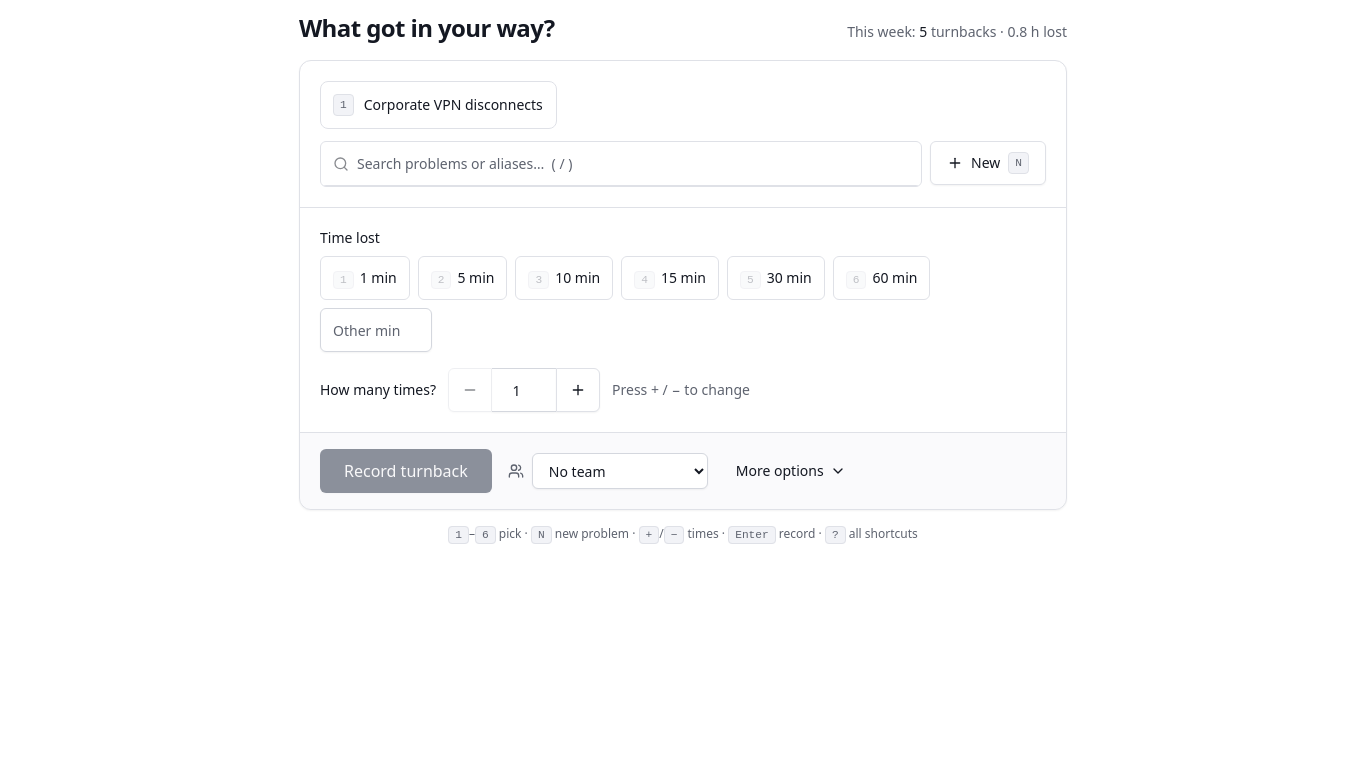
Test: RecordPage › records the same problem several times with a quantity
The image size is (1366, 780).
# Duration first, then the problem: either order works.
Click the radio button labelled "10 min". click: coordinates (564, 278)
box: [516,256,613,300]
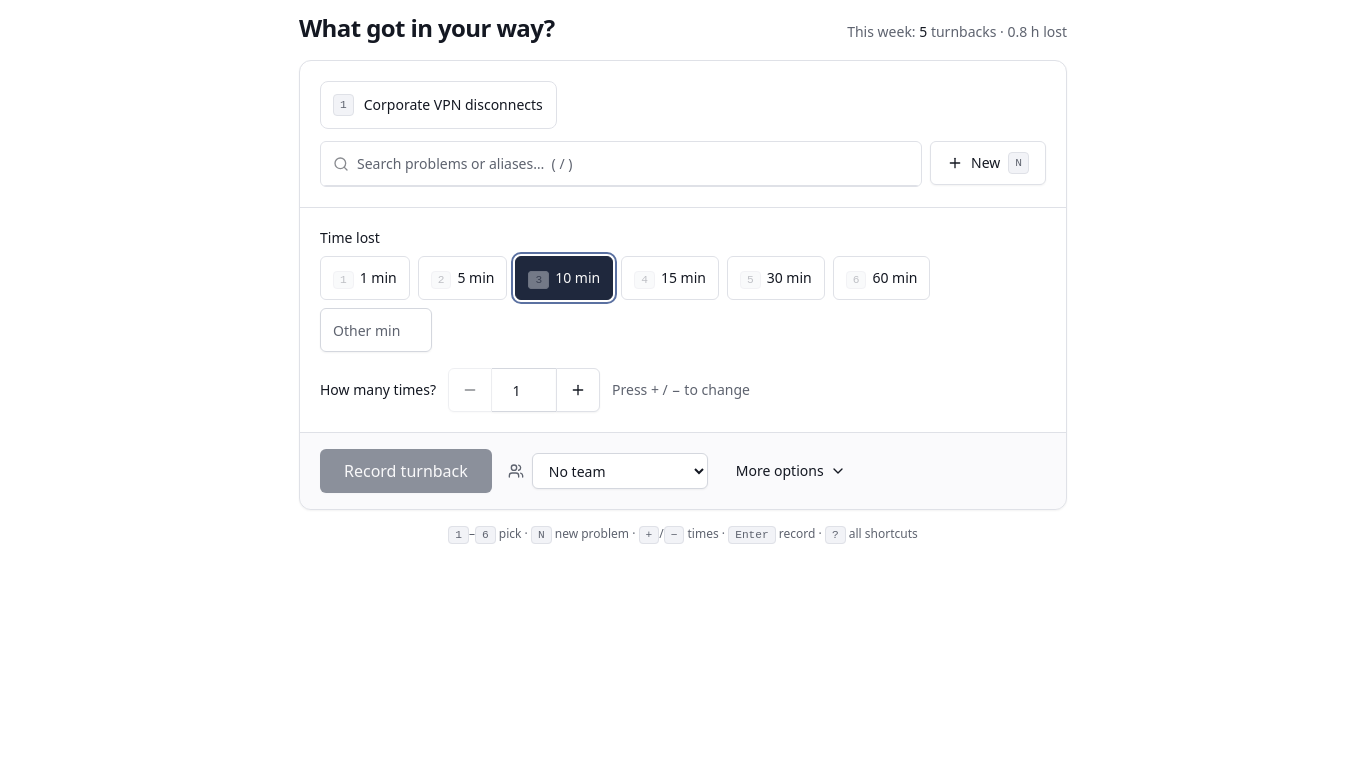
Click the button "1 Corporate VPN disconnects". click: coordinates (438, 105)
box: [320,81,557,129]
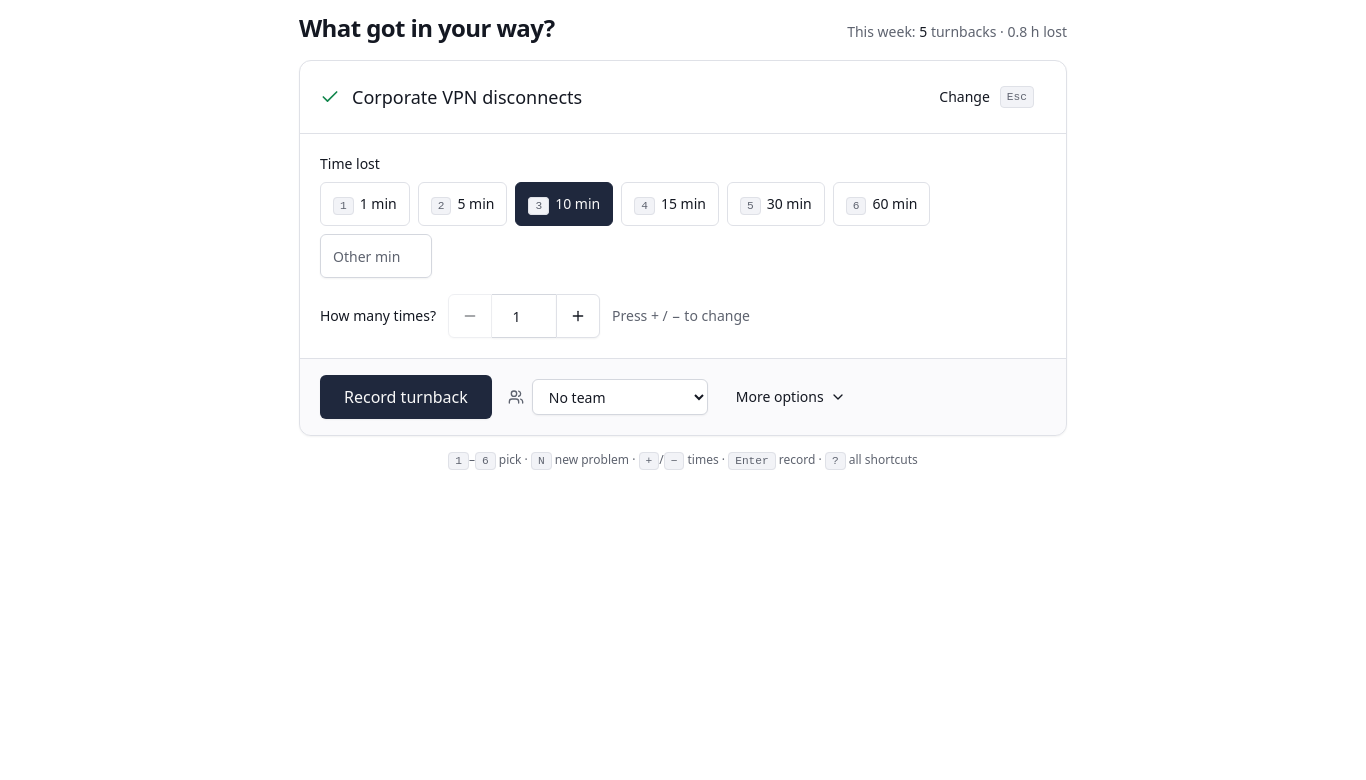
Replace the text in the number field labelled "How many times?" with "15". click: coordinates (524, 316)
box: [492,294,556,338]
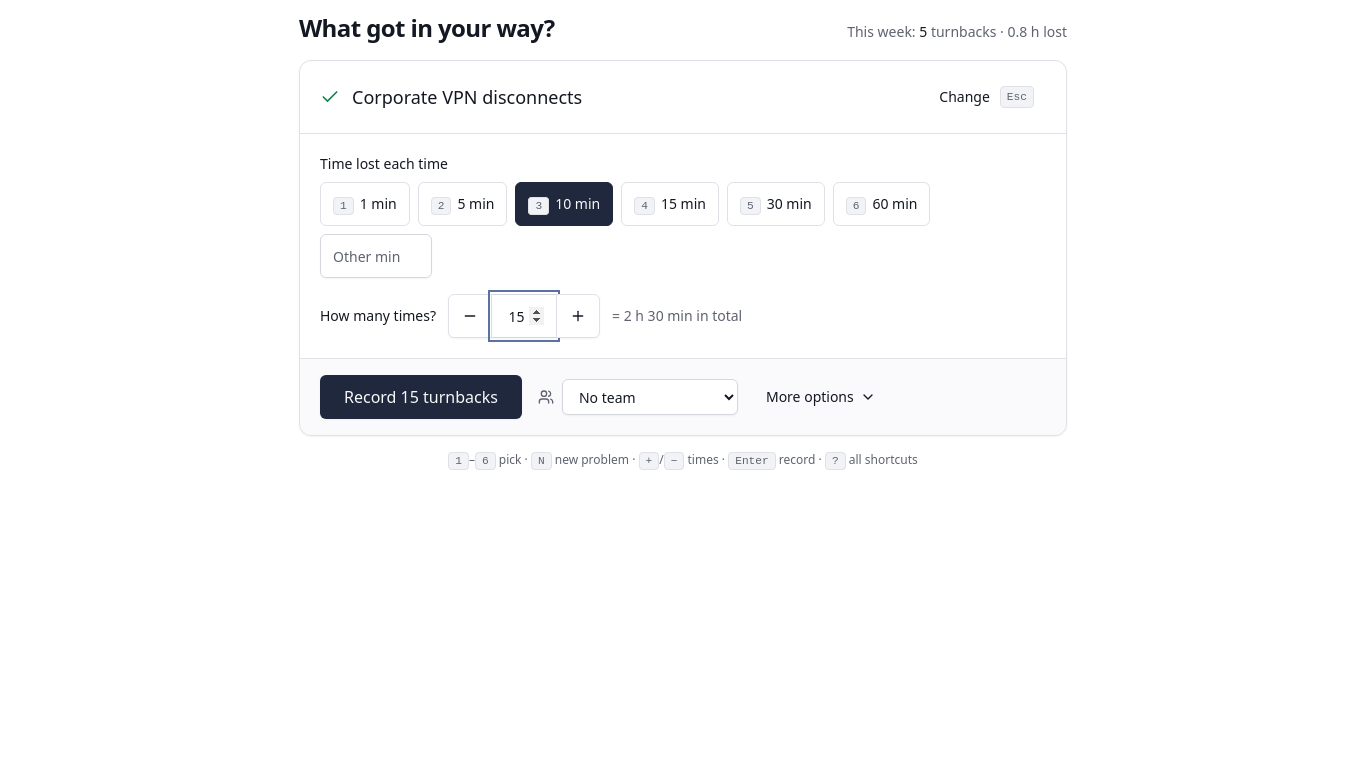
Expected: the text with test id "quantity-total" reads "= 2 h 30 min in total", [612,306,742,325]
Click the button "Record 15 turnbacks". click: coordinates (421, 397)
box: [320,375,522,419]
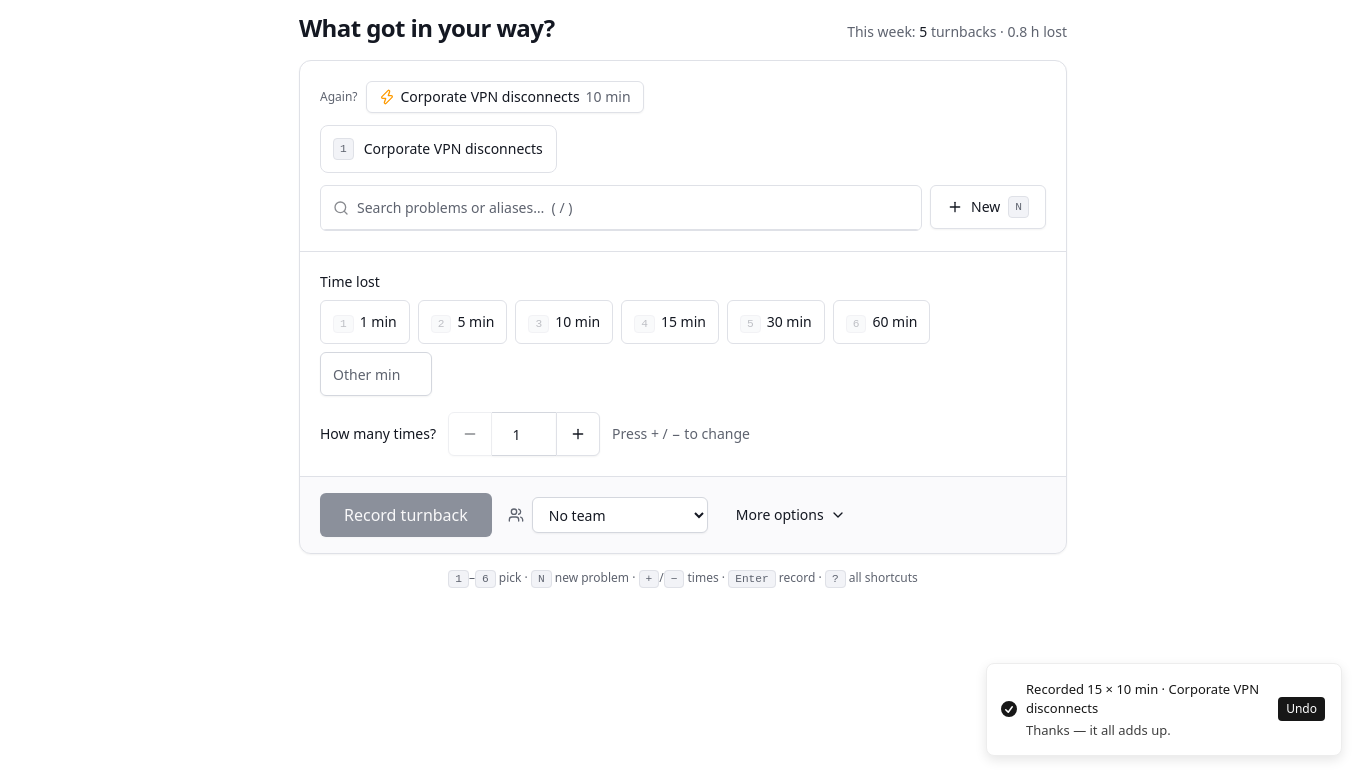
Expected: the text "Recorded 15 × 10 min · Corporate VPN disconnects" is shown, [1026,680,1272,719]
